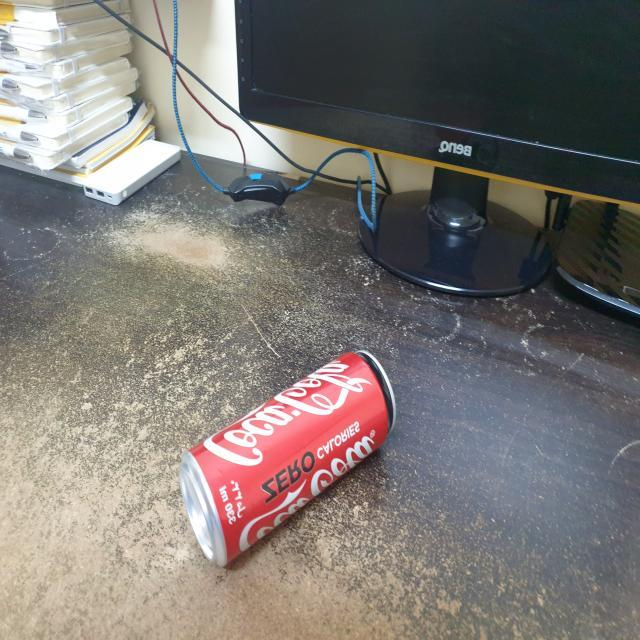can: (172, 343, 400, 581)
